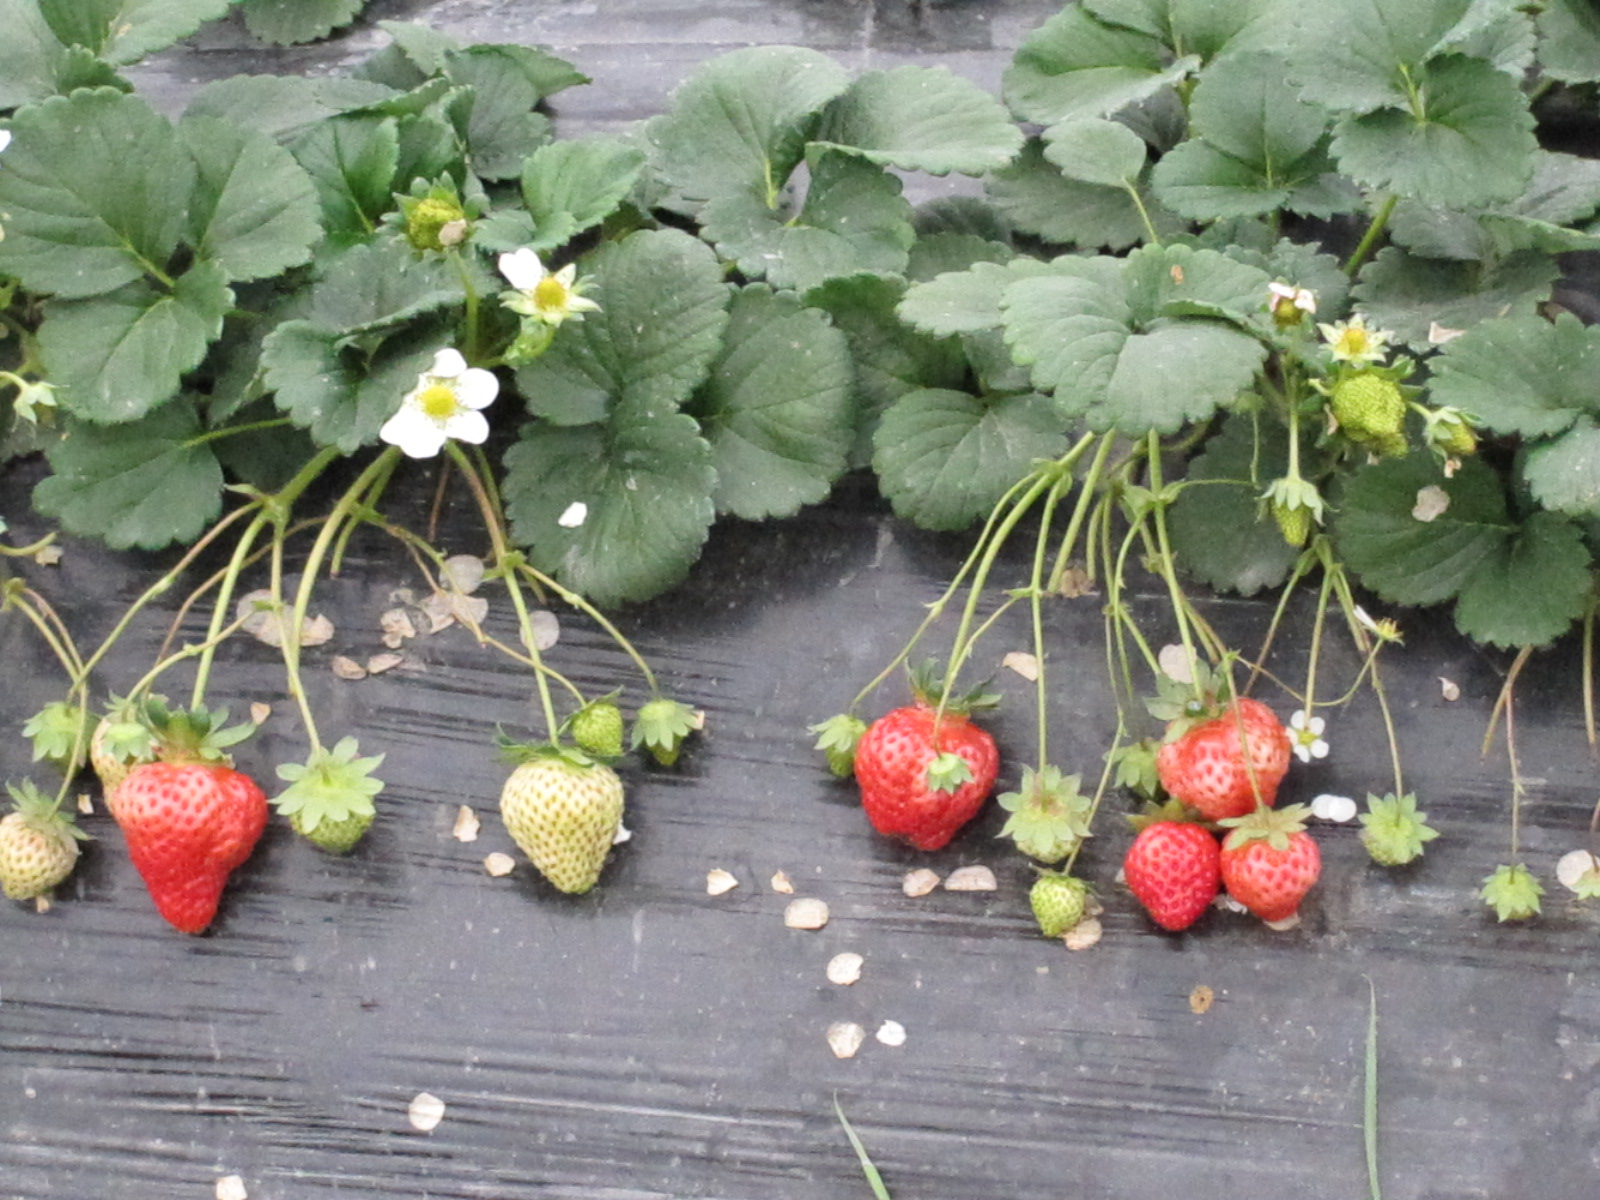StrawberryCone: (91, 753, 287, 943), (1120, 812, 1228, 942)
StrawberryIrremovable: (494, 750, 634, 913), (1143, 687, 1295, 807), (286, 747, 382, 857), (1225, 817, 1325, 916), (3, 795, 88, 904), (1004, 763, 1092, 863), (1354, 790, 1443, 879), (559, 672, 634, 776), (84, 698, 170, 788), (1328, 368, 1412, 442), (803, 702, 872, 787), (24, 682, 88, 771), (636, 695, 708, 770), (1020, 870, 1094, 942), (1416, 392, 1482, 470), (1480, 863, 1550, 926)
StrawberryRemovable: (96, 756, 282, 940), (854, 692, 998, 858), (1123, 816, 1226, 934)
StrawberryWedge: (850, 689, 1003, 861)
